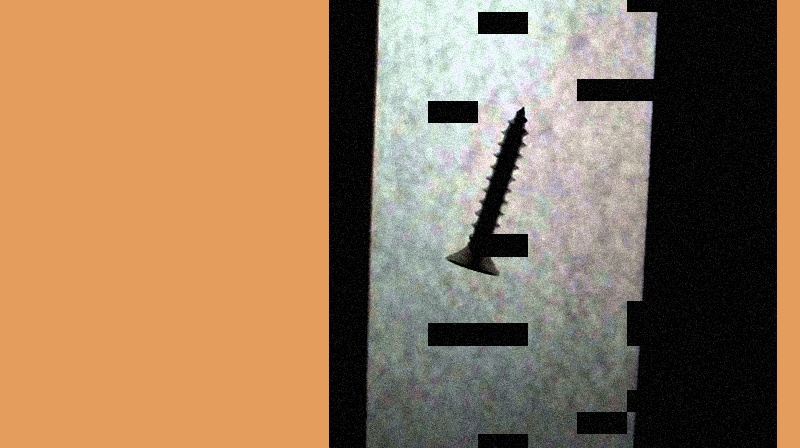S001: (446, 100, 530, 279)
